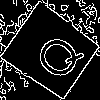Q: (25, 26, 87, 86)
